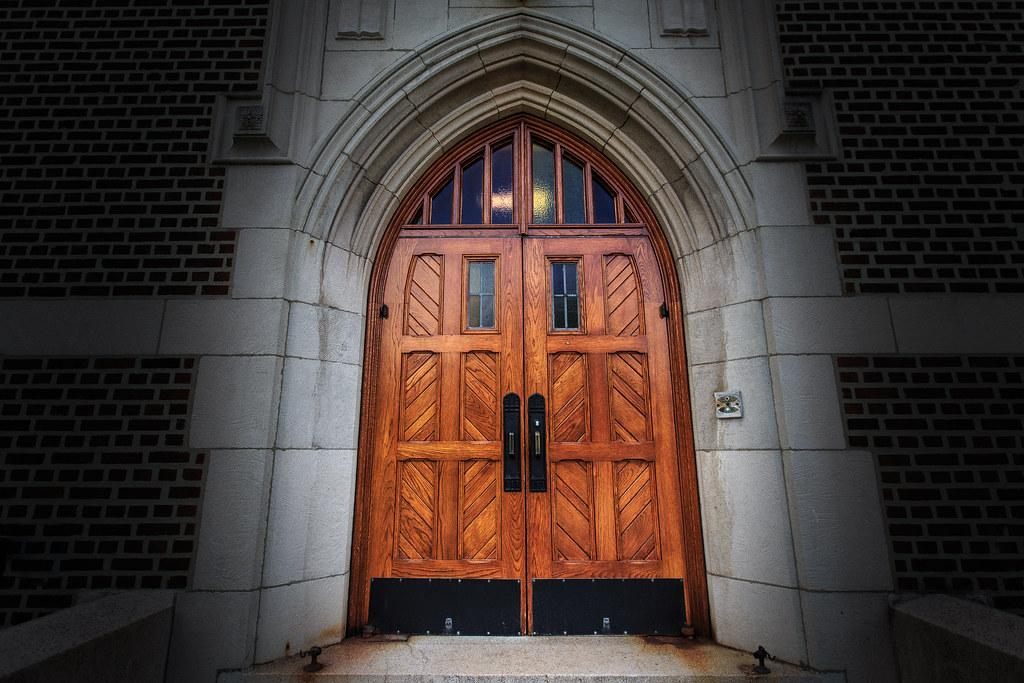door: (362, 222, 693, 636)
